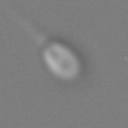normal: (1, 1, 48, 43)
